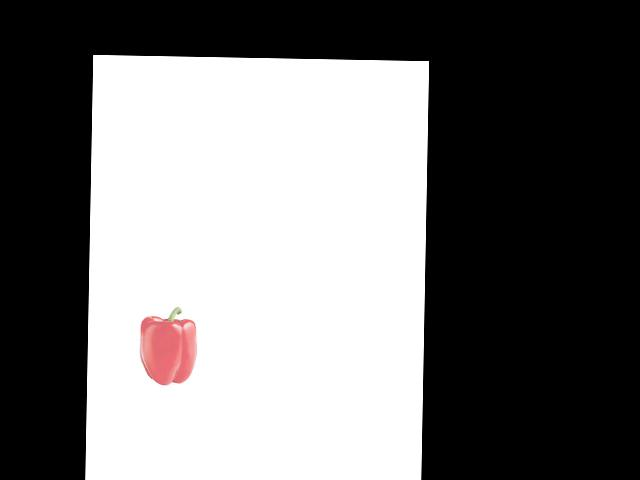bell_pepper: (135, 306, 200, 388)
